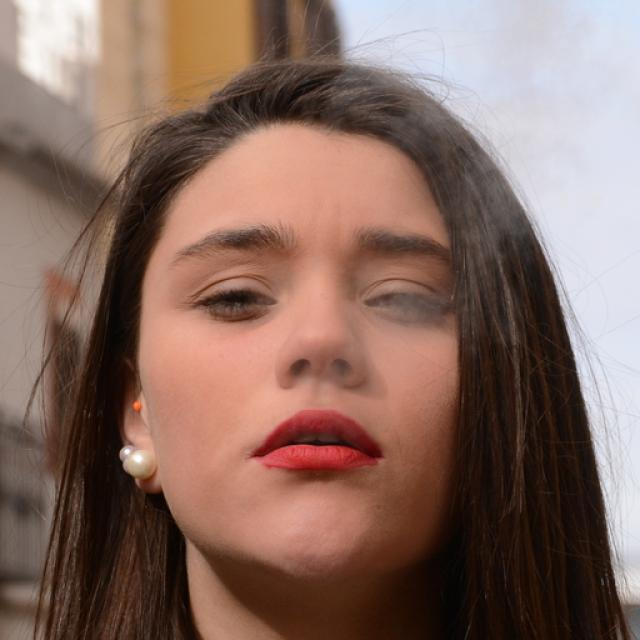neutral: (142, 116, 476, 575)
